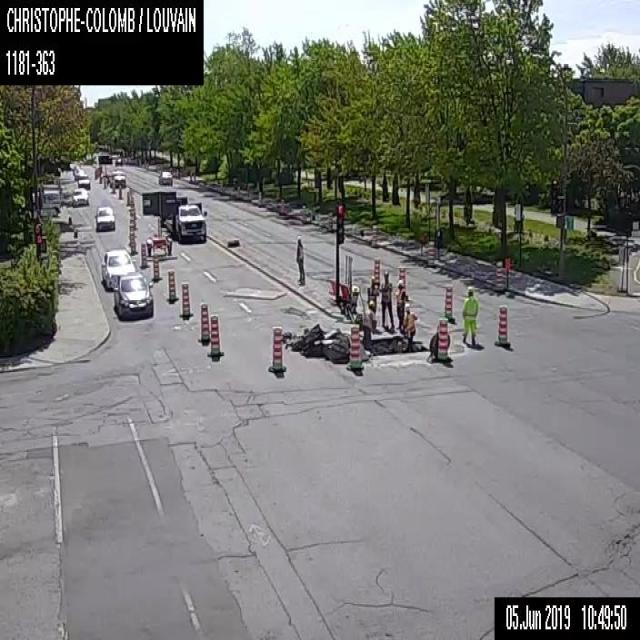construction: (141, 190, 175, 256), (327, 253, 352, 303), (198, 301, 220, 356), (428, 317, 453, 362), (267, 324, 283, 371), (494, 303, 509, 346), (347, 324, 362, 366), (369, 254, 382, 290), (442, 283, 454, 321), (179, 281, 190, 319), (165, 268, 177, 300), (98, 154, 111, 182), (151, 254, 162, 282), (492, 261, 502, 291), (398, 264, 408, 293), (426, 239, 434, 265), (140, 242, 148, 268), (370, 224, 377, 245), (327, 211, 333, 231), (301, 203, 306, 223), (279, 197, 284, 215), (110, 178, 116, 192), (125, 190, 130, 206), (129, 230, 134, 246), (129, 222, 134, 238), (130, 241, 136, 253), (130, 200, 134, 216), (236, 184, 240, 199), (256, 189, 260, 204), (130, 210, 134, 225), (130, 217, 134, 232), (103, 177, 107, 188), (219, 183, 223, 193), (118, 184, 121, 197)
pedestrian: (461, 284, 478, 345), (380, 270, 394, 330), (365, 274, 379, 333), (402, 304, 417, 351), (362, 298, 374, 350), (294, 234, 304, 286), (395, 280, 405, 330)
vehicle: (113, 270, 153, 319), (162, 196, 206, 239), (101, 248, 136, 289), (93, 204, 115, 230), (112, 158, 126, 186), (72, 187, 89, 206), (158, 169, 172, 184), (77, 173, 89, 187), (74, 168, 85, 179)
